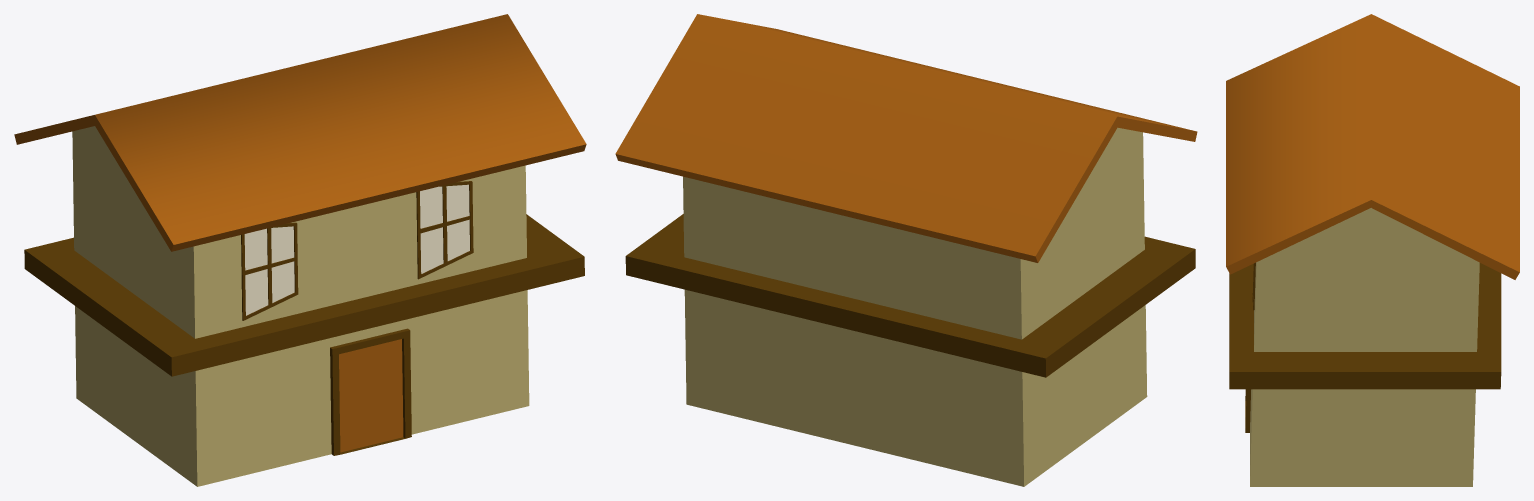
File: fazenda_casa.FBX
3 views of the same model, side by side, from view 1: azimuth 30°, elevation 25°; view 2: azimuth 150°, elevation 25°; view 3: azimuth 270°, elevation 25° (orthographic). The views are drawn at different scales.
Visible parts, largest first — view 1: Fazenda_Casa; view 2: Fazenda_Casa; view 3: Fazenda_Casa.
Boxes of the visible parts, x1,y1,x2,y2 form: Fazenda_Casa: [14, 14, 586, 486]; Fazenda_Casa: [615, 14, 1197, 486]; Fazenda_Casa: [1226, 14, 1519, 486].
Size of the model in its own units: 7.39 by 4.94 by 5.7.
